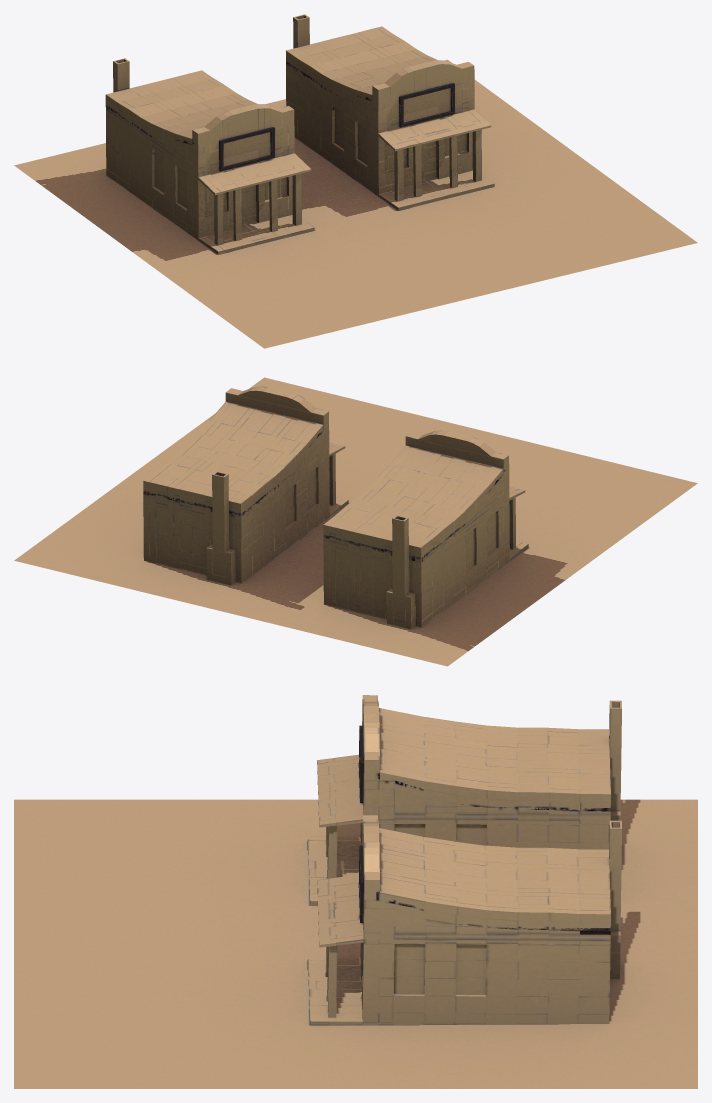
Rendered from wpo.obj.
3 renders of one model, top to bottom at view 1: azimuth 30°, elevation 25°; view 2: azimuth 150°, elevation 25°; view 3: azimuth 270°, elevation 25°, orthographic. The views are drawn at different scales.
Parts seen in each view (by area): view 1: Cube.004; view 2: Cube.004; view 3: Cube.004.
Boxes of the visible parts, box(x1,y1,x2,y2) form: Cube.004: box(14, 14, 697, 348); Cube.004: box(14, 377, 697, 666); Cube.004: box(14, 695, 697, 1088).
Size of the model in its own units: 27.23 by 7.35 by 27.23.
1 material, 1 textured.
